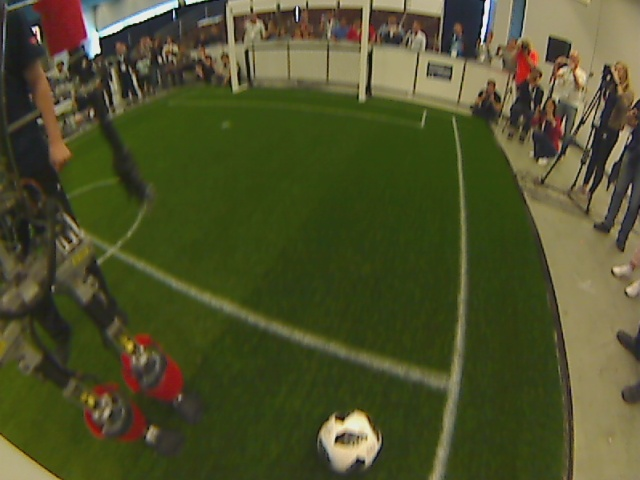ball: (311, 406, 386, 474)
goalpost: (346, 82, 378, 115), (222, 76, 249, 100)
robot: (59, 334, 206, 455)
